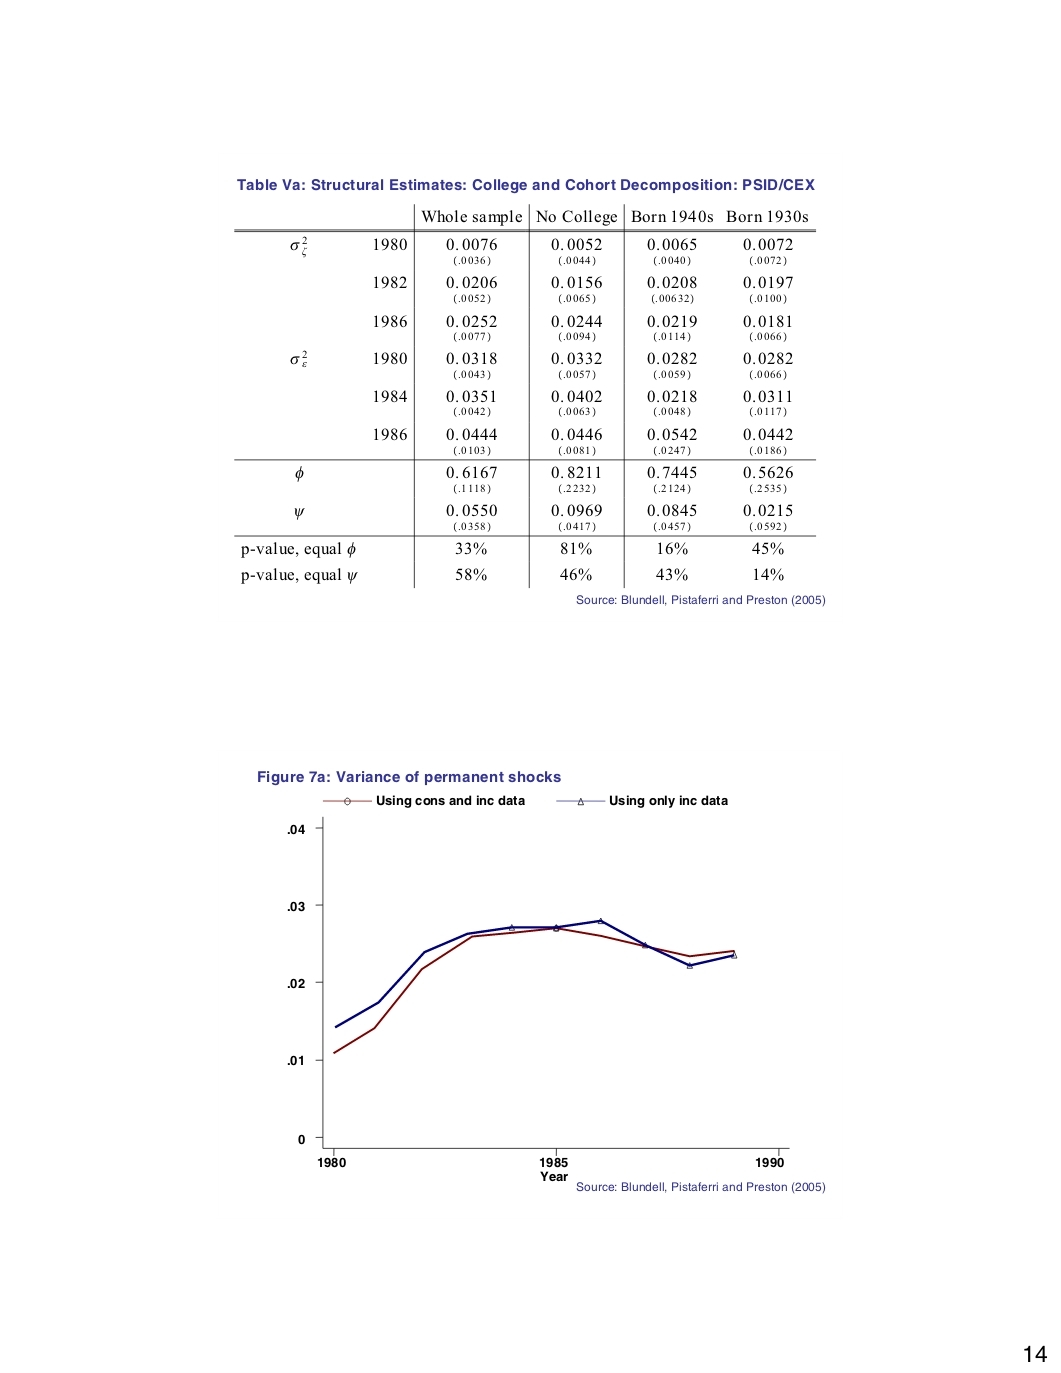Table: (234, 202, 816, 590)
figure: (288, 815, 824, 1194), (323, 793, 727, 808)
